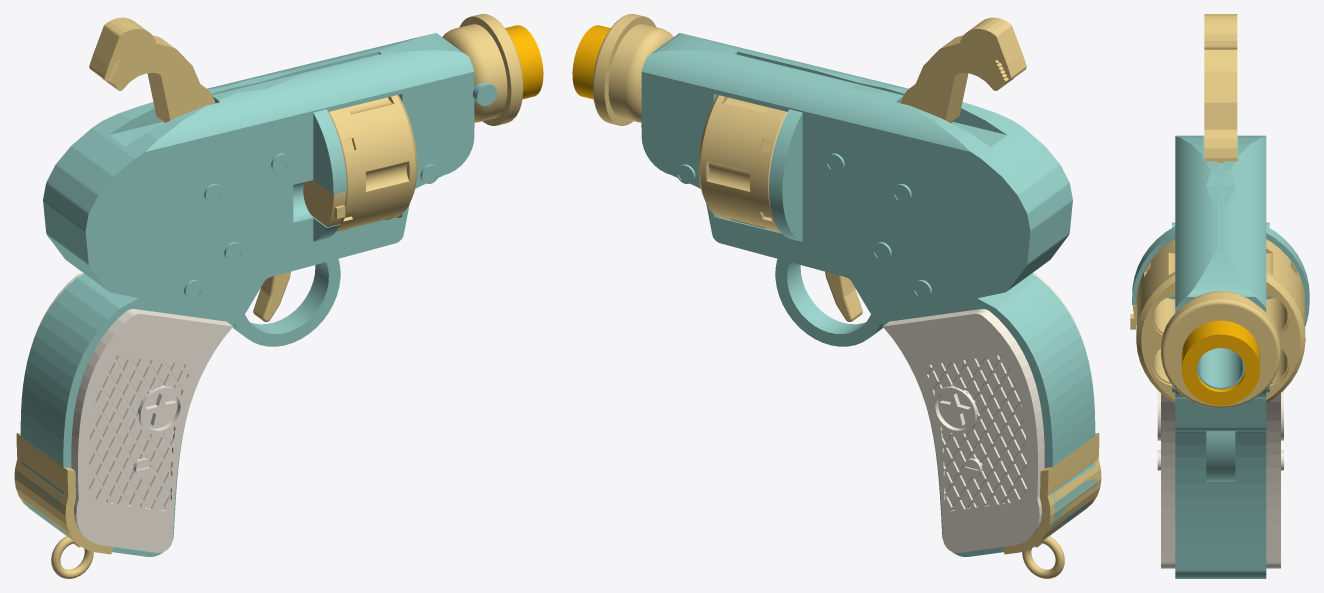
3 renders of one model, left to right at view 1: azimuth 30°, elevation 25°; view 2: azimuth 150°, elevation 25°; view 3: azimuth 270°, elevation 25°, orthographic. The views are drawn at different scales.
Visible parts, largest first — view 1: telaio, =>[0:1:1:18], =>[0:1:1:3], =>[0:1:1:20], =>[0:1:1:12], =>[0:1:1:25], =>[0:1:1:28], sportello, =>[0:1:1:23], cordino; view 2: telaio, guancia_sx, =>[0:1:1:3], =>[0:1:1:20], =>[0:1:1:12], =>[0:1:1:25], =>[0:1:1:28], =>[0:1:1:23], cordino; view 3: telaio, =>[0:1:1:3], =>[0:1:1:12], =>[0:1:1:20], =>[0:1:1:28], =>[0:1:1:18], guancia_sx, =>[0:1:1:10].
Part boxes in pixels (x1,y1,x2,y2): telaio: (19,33,474,556); =>[0:1:1:18]: (71,309,232,552); =>[0:1:1:3]: (328,95,417,232); =>[0:1:1:20]: (89,17,215,122); =>[0:1:1:12]: (442,14,523,125); =>[0:1:1:25]: (14,433,113,554); =>[0:1:1:28]: (505,25,543,99); sportello: (303,180,345,227); =>[0:1:1:23]: (253,271,290,321); cordino: (51,536,93,578); telaio: (641,33,1097,556); guancia_sx: (883,309,1044,552); =>[0:1:1:3]: (698,95,787,232); =>[0:1:1:20]: (900,17,1026,122); =>[0:1:1:12]: (592,14,673,125); =>[0:1:1:25]: (1002,433,1101,554); =>[0:1:1:28]: (572,25,610,99); =>[0:1:1:23]: (825,271,862,321); cordino: (1022,536,1064,578); telaio: (1132,135,1309,578); =>[0:1:1:3]: (1136,239,1305,403); =>[0:1:1:12]: (1161,291,1280,408); =>[0:1:1:20]: (1204,14,1237,162); =>[0:1:1:28]: (1181,320,1259,405); =>[0:1:1:18]: (1157,390,1175,568); guancia_sx: (1266,390,1283,568); =>[0:1:1:10]: (1196,348,1244,389).
Size of the model in its own units: 145 by 154 by 43.38.
